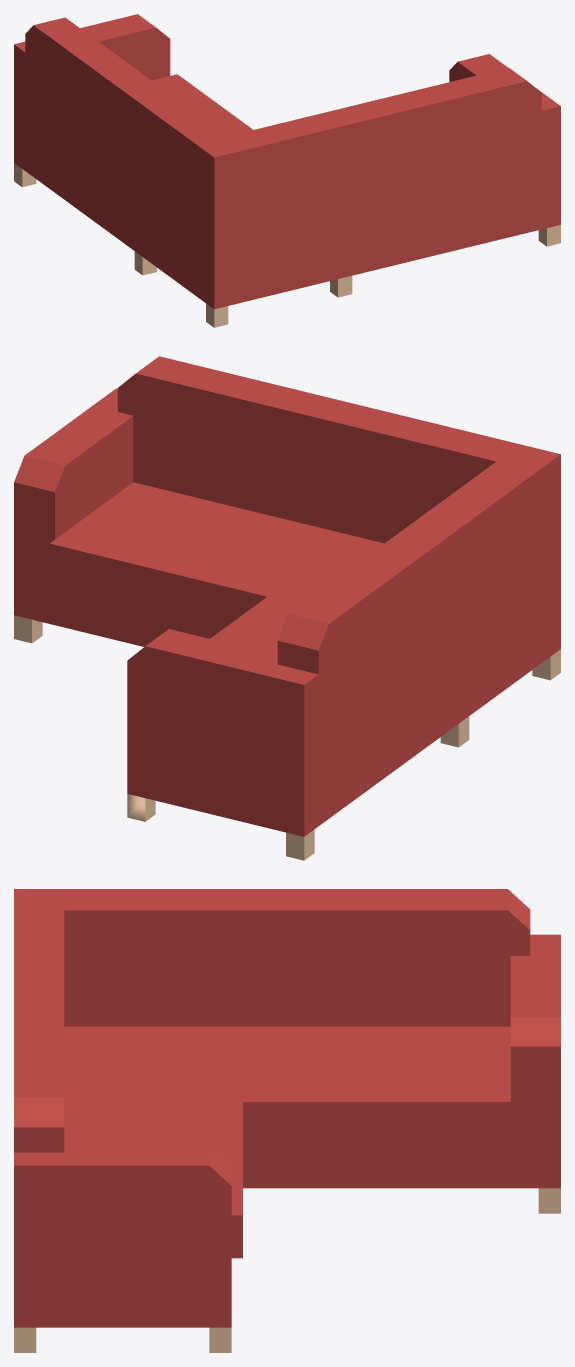
The model's file is Furniture_Couch_Corner.fbx.
3 views of the same model, one above another, from view 1: azimuth 30°, elevation 25°; view 2: azimuth 150°, elevation 25°; view 3: azimuth 270°, elevation 25° (orthographic). The views are drawn at different scales.
Visible parts, largest first — view 1: loungeSofaCorner; view 2: loungeSofaCorner; view 3: loungeSofaCorner.
Part boxes in pixels (x1,y1,x2,y2): loungeSofaCorner: (14, 14, 560, 327); loungeSofaCorner: (14, 356, 560, 860); loungeSofaCorner: (14, 889, 560, 1352).
Bounding box in the file's own units: 293 × 138 × 293.
